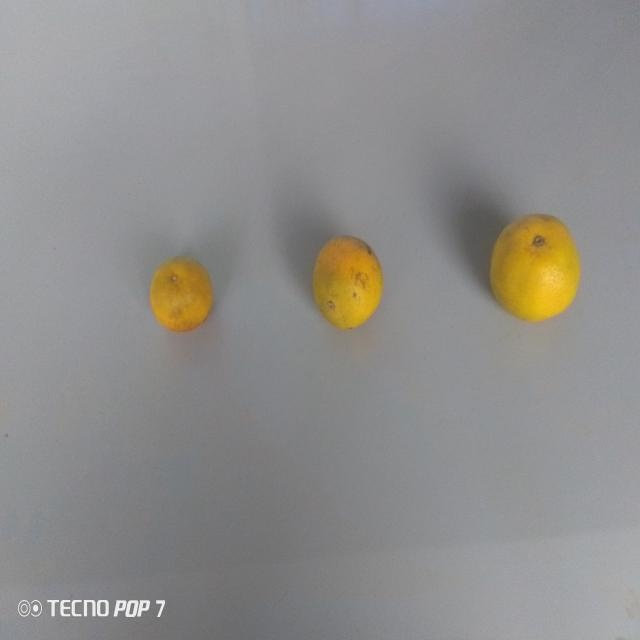agrume: (484, 204, 587, 329), (308, 228, 389, 341), (146, 247, 219, 345)
